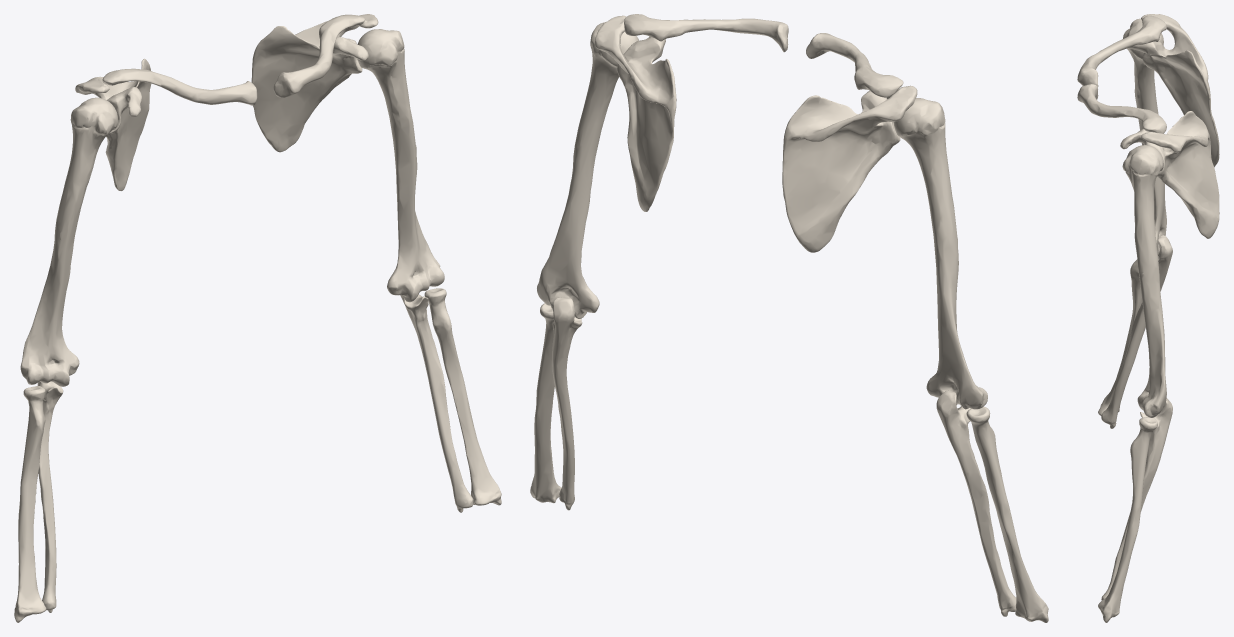
Rendered from skeletal-v1.glb.
The picture shows the model from 3 angles, left to right: view 1: azimuth 30°, elevation 25°; view 2: azimuth 150°, elevation 25°; view 3: azimuth 270°, elevation 25°; orthographic projection. The views are drawn at different scales.
Visible parts, largest first — view 1: bone.humerus.right, bone.humerus.left, bone.scapula.left, bone.radius.right, bone.radius.left, bone.scapula.right, bone.ulna.left, bone.ulna.right, bone.clavicula.right, bone.clavicula.left; view 2: bone.scapula.right, bone.humerus.right, bone.humerus.left, bone.scapula.left, bone.ulna.right, bone.radius.right, bone.ulna.left, bone.radius.left, bone.clavicula.left, bone.clavicula.right; view 3: bone.humerus.left, bone.scapula.left, bone.scapula.right, bone.radius.left, bone.humerus.right, bone.ulna.right, bone.ulna.left, bone.clavicula.right, bone.clavicula.left, bone.radius.right.
Boxes of the visible parts, x1=… form: bone.humerus.right: x1=20, y1=97, x2=117, y2=386; bone.humerus.left: x1=357, y1=29, x2=444, y2=302; bone.scapula.left: x1=251, y1=14, x2=378, y2=152; bone.radius.right: x1=14, y1=386, x2=46, y2=622; bone.radius.left: x1=424, y1=288, x2=501, y2=505; bone.scapula.right: x1=75, y1=58, x2=151, y2=190; bone.ulna.left: x1=400, y1=294, x2=473, y2=512; bone.ulna.right: x1=37, y1=381, x2=63, y2=612; bone.clavicula.right: x1=102, y1=68, x2=257, y2=105; bone.clavicula.left: x1=273, y1=14, x2=364, y2=97; bone.scapula.right: x1=782, y1=85, x2=917, y2=252; bone.humerus.right: x1=893, y1=98, x2=987, y2=409; bone.humerus.left: x1=537, y1=22, x2=638, y2=318; bone.scapula.left: x1=595, y1=15, x2=676, y2=211; bone.ulna.right: x1=936, y1=390, x2=1016, y2=616; bone.radius.right: x1=966, y1=406, x2=1048, y2=622; bone.ulna.left: x1=552, y1=297, x2=582, y2=510; bone.radius.left: x1=530, y1=303, x2=561, y2=503; bone.clavicula.left: x1=624, y1=14, x2=788, y2=52; bone.clavicula.right: x1=806, y1=33, x2=903, y2=97; bone.humerus.left: x1=1122, y1=145, x2=1166, y2=417; bone.scapula.left: x1=1120, y1=111, x2=1219, y2=238; bone.scapula.right: x1=1127, y1=14, x2=1219, y2=167; bone.radius.left: x1=1098, y1=417, x2=1157, y2=622; bone.humerus.right: x1=1123, y1=18, x2=1166, y2=254; bone.ulna.right: x1=1101, y1=235, x2=1172, y2=428; bone.ulna.left: x1=1101, y1=398, x2=1172, y2=600; bone.clavicula.right: x1=1077, y1=15, x2=1166, y2=86; bone.clavicula.left: x1=1077, y1=84, x2=1166, y2=133; bone.radius.right: x1=1098, y1=259, x2=1142, y2=416.
Size of the model in its own units: 0.5591 by 0.5516 by 0.1581.
